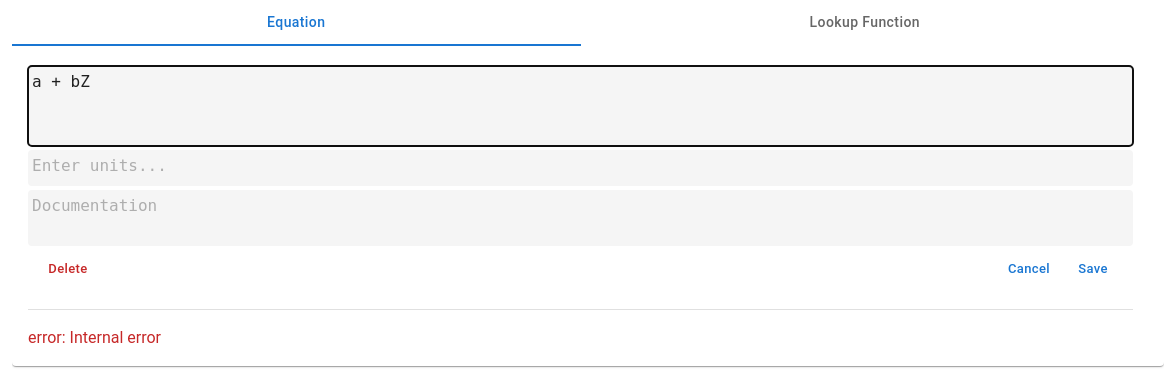
Test: VariableDetails discard (Cancel / Escape) › click Cancel discards the equation edit and reverts the field
Expected: the field with class "eqnEditor" reads "a + bZ", [28, 66, 1133, 146]
Press the mouse on the button "Cancel" at (1029, 269), box [997, 254, 1061, 285]
Click the button "Cancel" at (1029, 269), box [997, 254, 1061, 285]
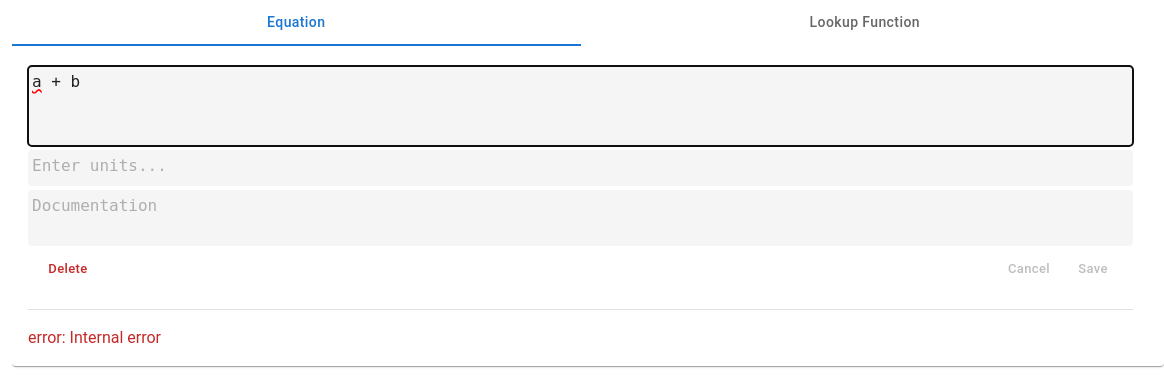
Now the field with class "eqnEditor" reads "a + b", box [28, 66, 1133, 146]
Now the button "Cancel" is disabled, box [997, 254, 1061, 285]
